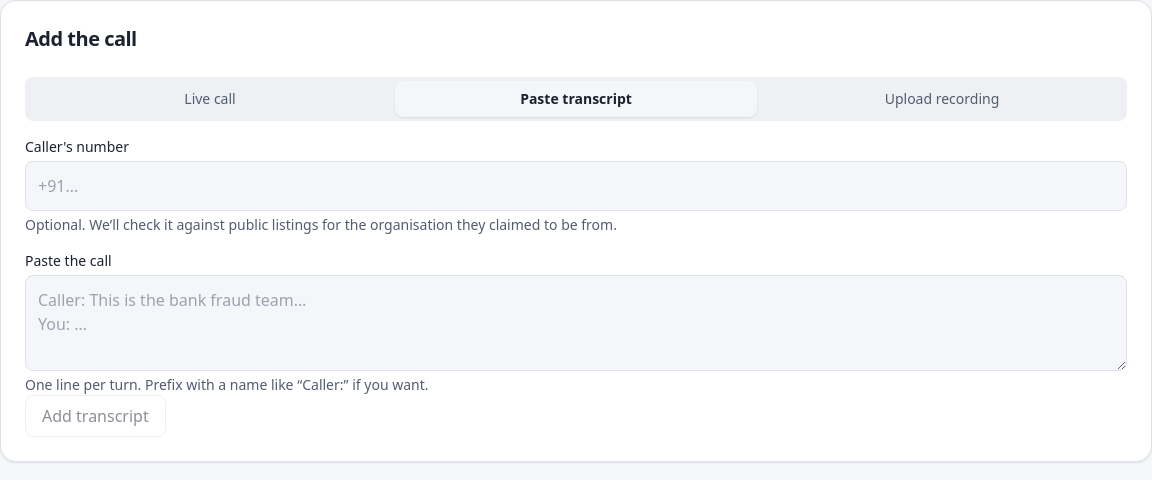
Test: SessionInput › reflects live capture state in the live tab
Click the tab "Live call" at [210, 99], box [29,81,391,117]
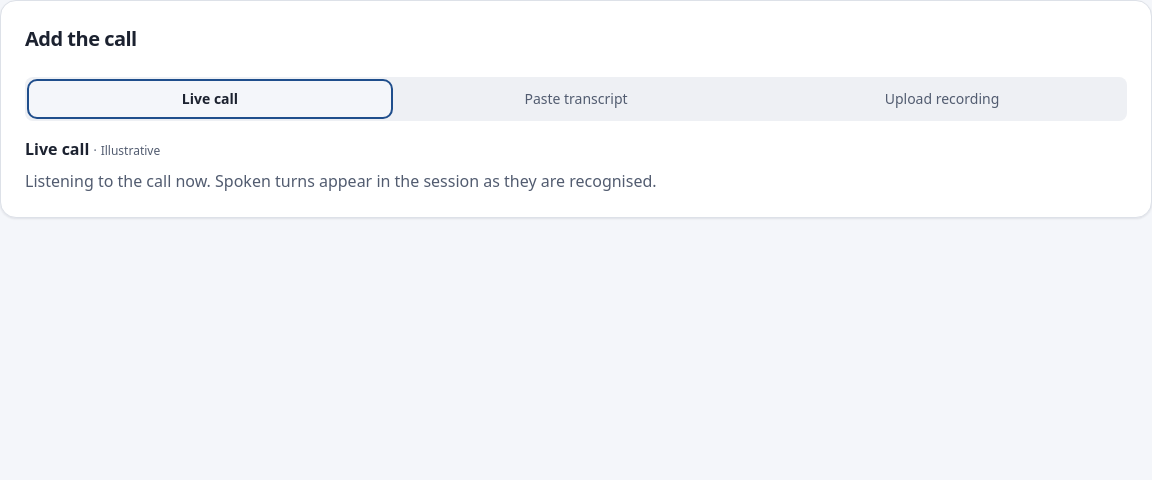
Result: the text "Listening to the call now" is shown at [25,170,657,192]
